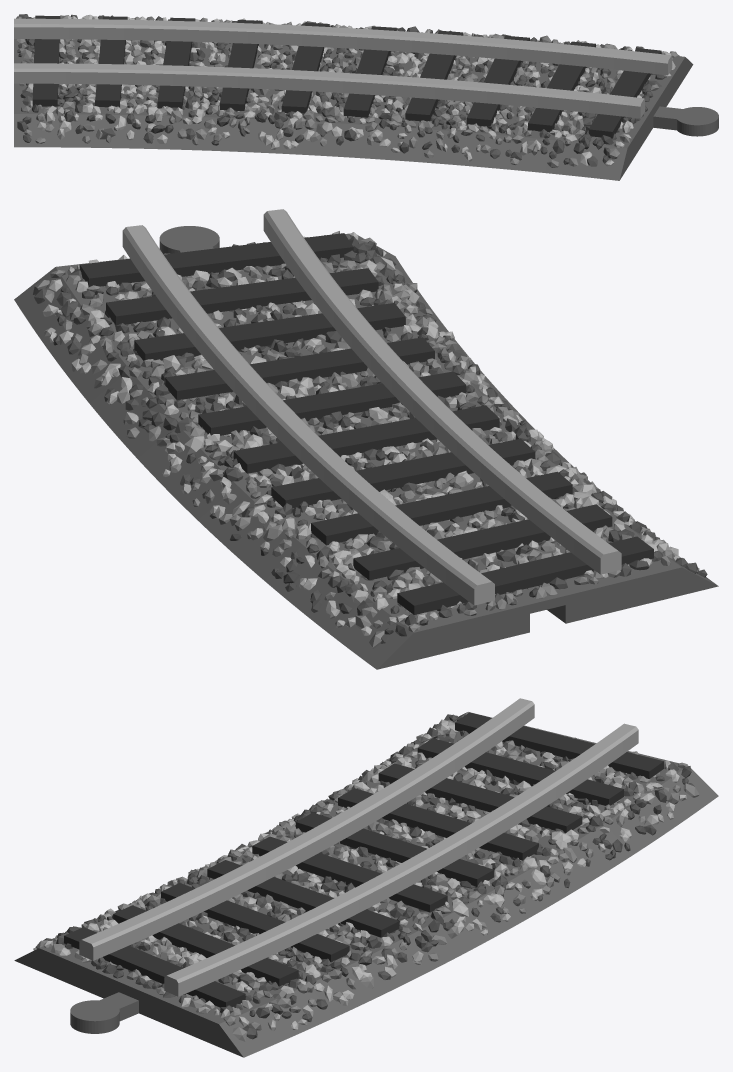
The model's file is Rail_Right_30_45.obj.
The picture shows the model from 3 angles, top to bottom: view 1: azimuth 30°, elevation 25°; view 2: azimuth 150°, elevation 25°; view 3: azimuth 270°, elevation 25°; orthographic projection. The views are drawn at different scales.
Parts seen in each view (by area): view 1: Rail_Right_30_45; view 2: Rail_Right_30_45; view 3: Rail_Right_30_45.
Boxes of the visible parts, x1,y1,x2,y2 form: Rail_Right_30_45: (14,14,718,180); Rail_Right_30_45: (14,209,718,669); Rail_Right_30_45: (14,698,718,1057).
Bounding box in the file's own units: 1.11 × 0.0816 × 0.9975.
Materials: 1 (1 with a texture image).
